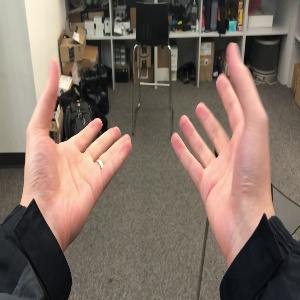hand: (171, 43, 273, 220), (24, 59, 131, 223)
